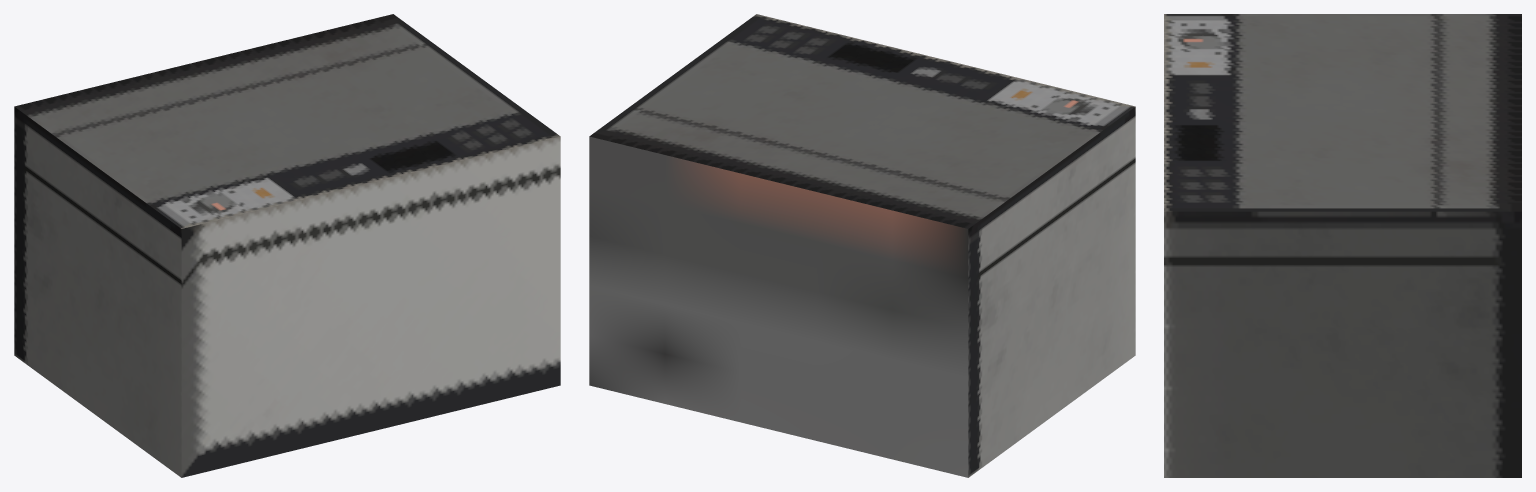
File: pz_g016_metal_dishwasher.obj
3 renders of one model, left to right at view 1: azimuth 30°, elevation 25°; view 2: azimuth 150°, elevation 25°; view 3: azimuth 270°, elevation 25°, orthographic. The views are drawn at different scales.
Parts seen in each view (by area): view 1: native_component_0_z+, native_component_0_y+, native_component_0_x-; view 2: native_component_0_z-, native_component_0_y+, native_component_0_x-; view 3: native_component_0_x+, native_component_0_y+.
Part boxes in pixels (<box>): native_component_0_z+: <box>181,136,560,477</box>; native_component_0_y+: <box>14,14,560,228</box>; native_component_0_x-: <box>14,107,181,477</box>; native_component_0_z-: <box>589,136,968,477</box>; native_component_0_y+: <box>589,14,1135,228</box>; native_component_0_x-: <box>968,107,1135,477</box>; native_component_0_x+: <box>1164,211,1521,477</box>; native_component_0_y+: <box>1164,14,1521,211</box>.
Size of the model in its own units: 0.9742 by 0.6113 by 0.7449.
Materials: 1 (1 with a texture image).
